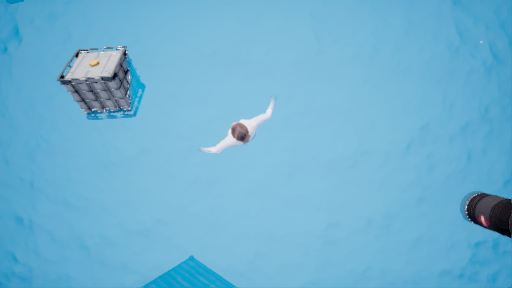person: (194, 93, 289, 155)
